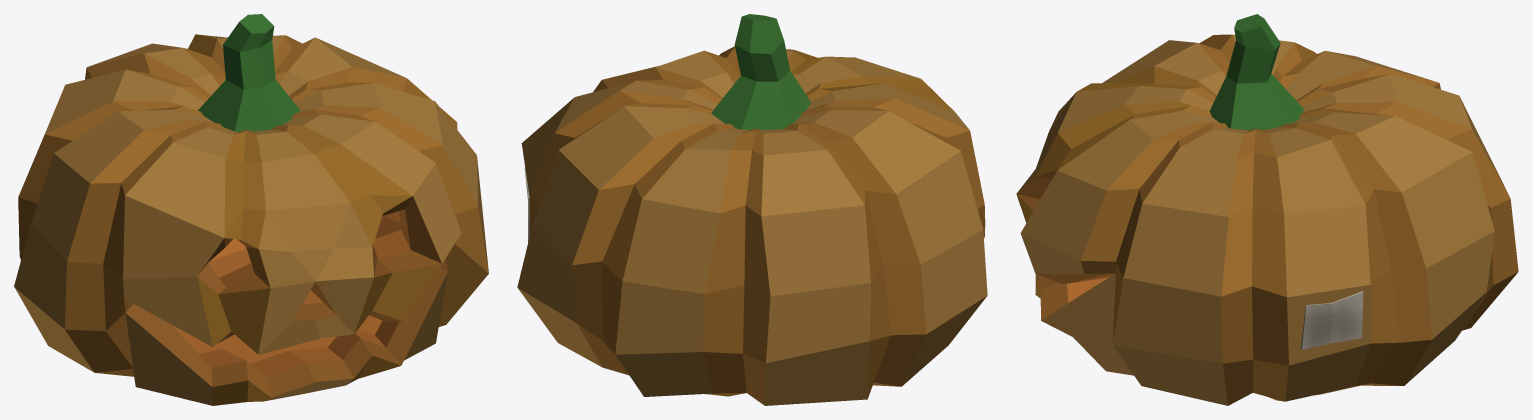
The model's file is jack-2.glb.
The picture shows the model from 3 angles, left to right: view 1: azimuth 30°, elevation 25°; view 2: azimuth 150°, elevation 25°; view 3: azimuth 270°, elevation 25°; orthographic projection.
Parts seen in each view (by area): view 1: SM_Prop_Pumpkin_Lantern_02; view 2: SM_Prop_Pumpkin_Lantern_02; view 3: SM_Prop_Pumpkin_Lantern_02.
Boxes of the visible parts, x1,y1,x2,y2 form: SM_Prop_Pumpkin_Lantern_02: (14,14,488,405); SM_Prop_Pumpkin_Lantern_02: (517,14,987,405); SM_Prop_Pumpkin_Lantern_02: (1016,14,1518,405).
Size of the model in its own units: 61.05 by 44.82 by 61.48.
Materials: 1 (1 with a texture image).
